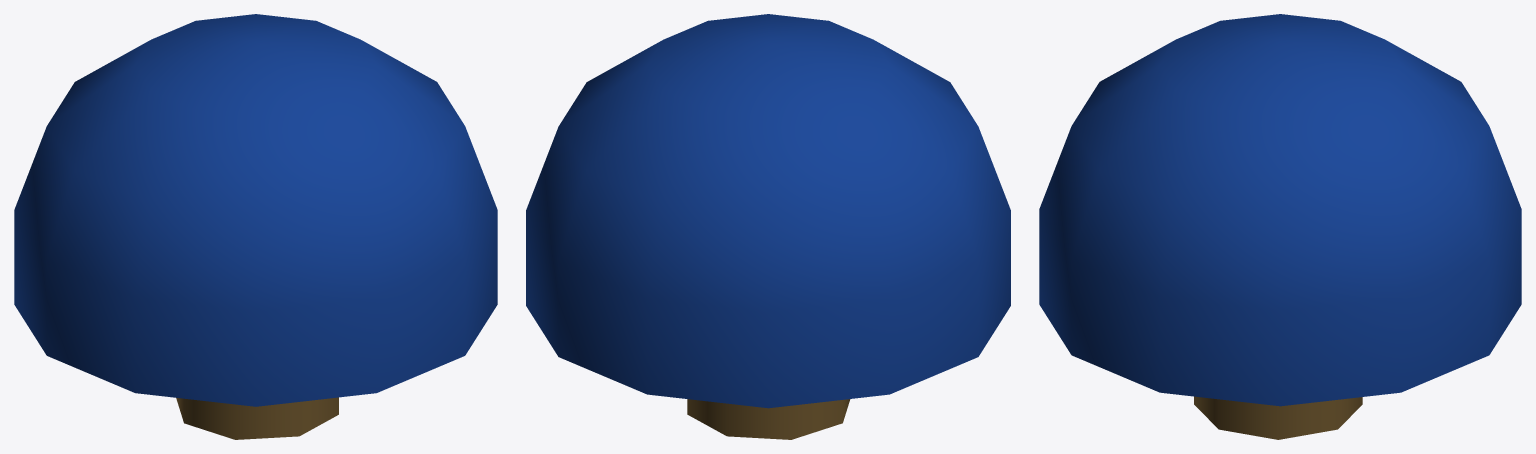
Rendered from Bush.FBX.
3 views of the same model, side by side, from view 1: azimuth 30°, elevation 25°; view 2: azimuth 150°, elevation 25°; view 3: azimuth 270°, elevation 25° (orthographic).
Visible parts, largest first — view 1: Sphere005; view 2: Sphere005; view 3: Sphere005.
Part boxes in pixels (<box>): Sphere005: <box>14,14,497,439</box>; Sphere005: <box>526,14,1010,439</box>; Sphere005: <box>1039,14,1521,439</box>.
Size of the model in its own units: 255 by 211 by 255.
